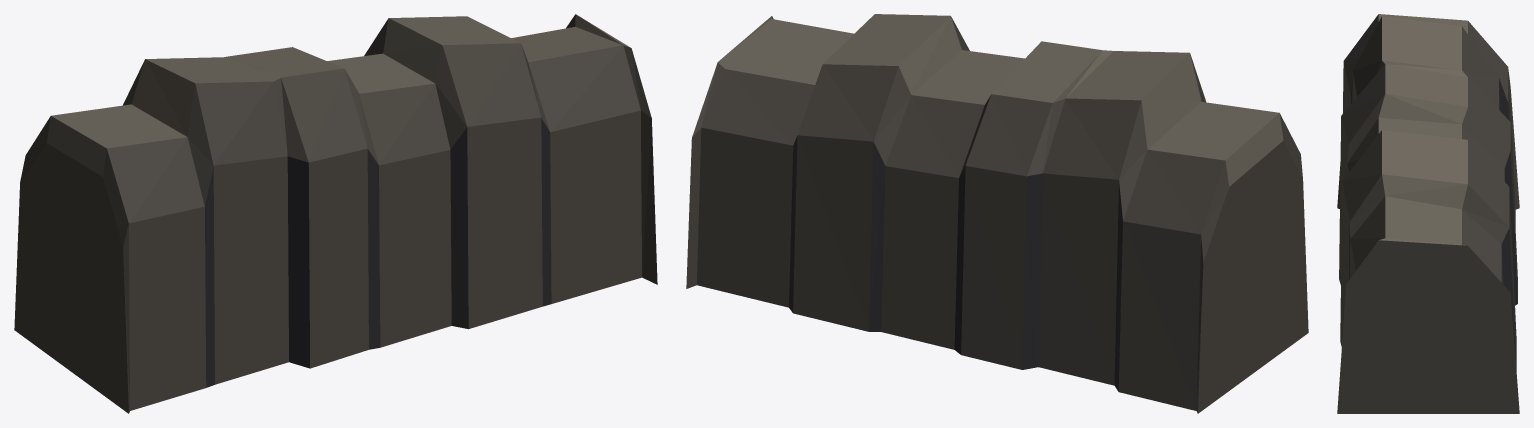
Rendered from SM_Cliff_B.fbx.
3 renders of one model, left to right at view 1: azimuth 30°, elevation 25°; view 2: azimuth 150°, elevation 25°; view 3: azimuth 270°, elevation 25°, orthographic. The views are drawn at different scales.
Visible parts, largest first — view 1: SM_Cliff_B; view 2: SM_Cliff_B; view 3: SM_Cliff_B.
Boxes of the visible parts, <box> form: SM_Cliff_B: <box>14,14,657,413</box>; SM_Cliff_B: <box>686,14,1308,413</box>; SM_Cliff_B: <box>1337,14,1519,413</box>.
Size of the model in its own units: 8 by 4.15 by 3.
